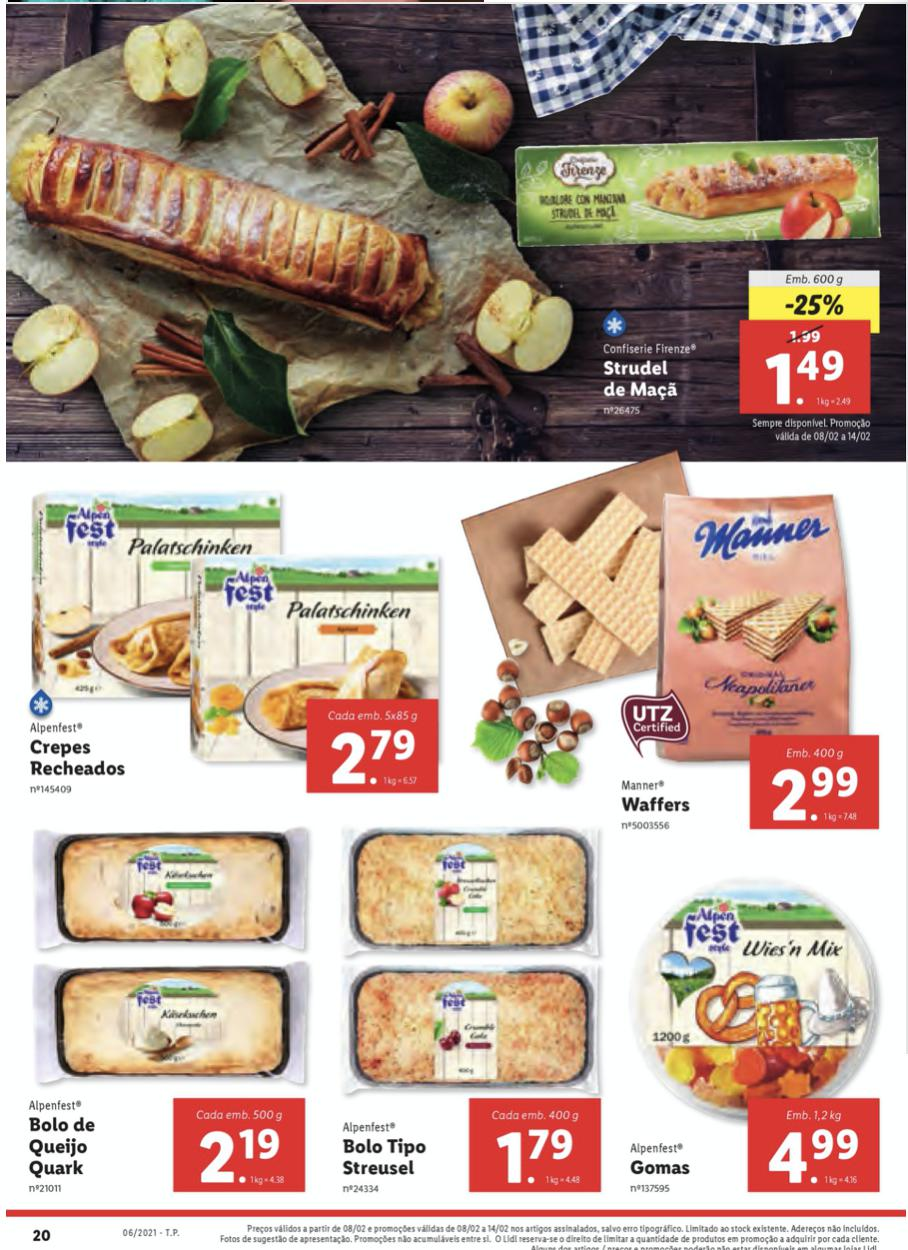name: (23, 1112, 98, 1178), (28, 736, 132, 783), (337, 1132, 429, 1178), (595, 358, 686, 401), (628, 1156, 697, 1180), (622, 798, 695, 820)
price: (188, 1120, 285, 1187), (771, 760, 872, 824), (766, 1124, 862, 1189), (328, 724, 415, 790), (491, 1124, 572, 1193), (763, 350, 848, 410)
product: (463, 466, 895, 832), (20, 475, 458, 813), (498, 133, 888, 458), (23, 823, 328, 1207), (328, 823, 622, 1198), (622, 860, 891, 1200)
